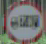Heavy Vehicles: (5, 1, 45, 42)
